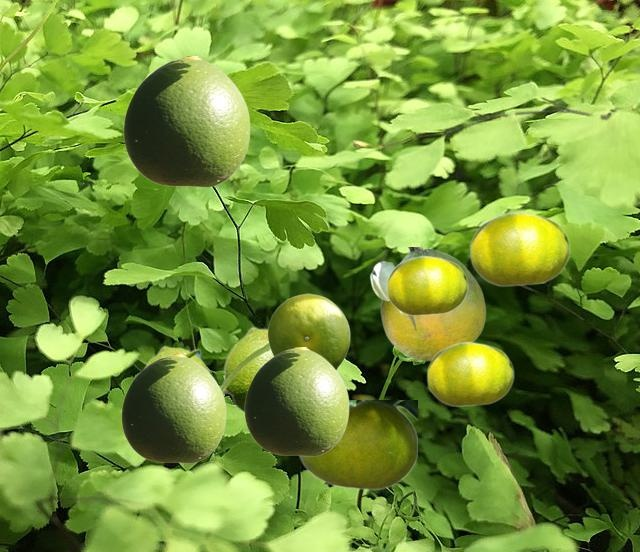dalandan: (123, 56, 249, 186), (369, 247, 485, 360), (244, 347, 348, 455), (121, 354, 225, 462), (298, 400, 416, 489), (469, 211, 569, 286), (267, 293, 349, 369), (426, 341, 513, 406), (386, 255, 467, 315), (220, 326, 272, 413), (143, 345, 211, 373)
